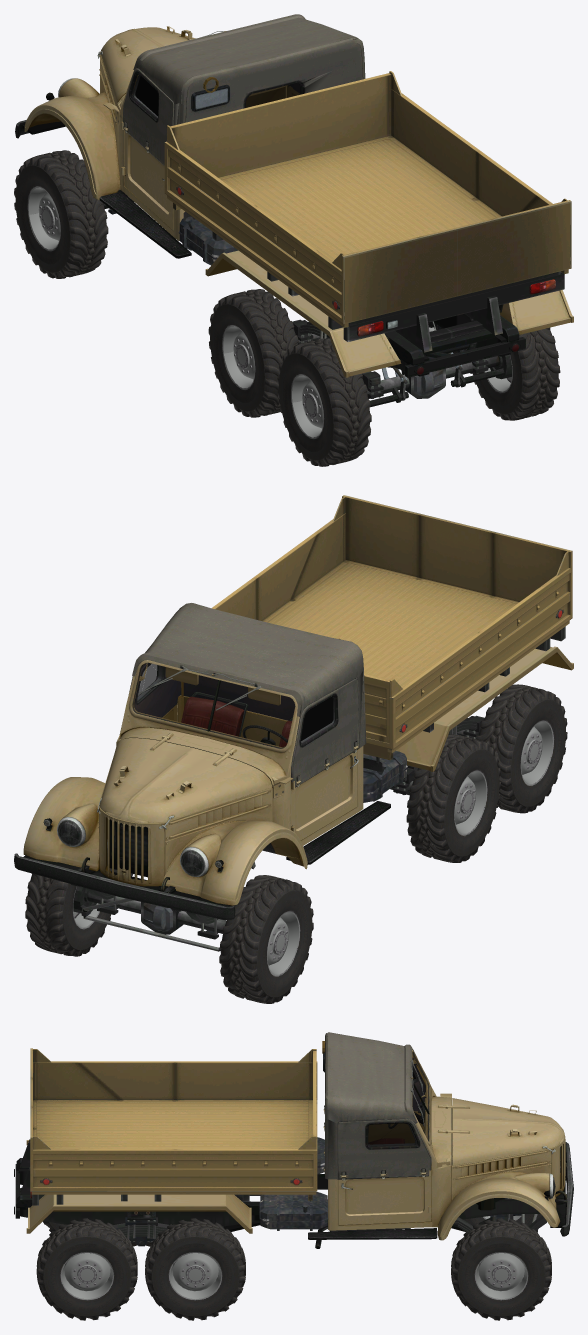
File: barracks.fbx
3 renders of one model, top to bottom at view 1: azimuth 30°, elevation 25°; view 2: azimuth 150°, elevation 25°; view 3: azimuth 270°, elevation 25°, orthographic. The views are drawn at different scales.
Visible parts, largest first — view 1: kuzov, chassis, tend, wheel.001, wheel.005, wheel.004, rama, door_lf_ok, wheel.003, baki, stekla, stopari; view 2: chassis, kuzov, tend, wheel.001, wheel.004, wheel.005, door_lf_ok, wheel, salon, salon2, door_rf_ok, baki (+2 smaller); view 3: kuzov, chassis, door_rf_ok, wheel.003, wheel, wheel.002, tend, baki, door_lf_ok, stekla.001, rama.
Boxes of the visible parts, bbox=[...] form: kuzov: bbox=[164, 71, 571, 327]; chassis: bbox=[15, 26, 573, 407]; tend: bbox=[133, 14, 365, 125]; wheel.001: bbox=[14, 150, 108, 278]; wheel.005: bbox=[277, 338, 371, 466]; wheel.004: bbox=[208, 289, 298, 417]; rama: bbox=[212, 231, 564, 352]; door_lf_ok: bbox=[121, 67, 174, 229]; wheel.003: bbox=[473, 327, 560, 420]; baki: bbox=[178, 216, 238, 265]; stekla: bbox=[246, 80, 304, 107]; stopari: bbox=[357, 279, 555, 336]; chassis: bbox=[14, 646, 573, 951]; kuzov: bbox=[212, 495, 572, 771]; tend: bbox=[132, 603, 366, 747]; wheel.001: bbox=[219, 875, 313, 1003]; wheel.004: bbox=[406, 734, 500, 862]; wheel.005: bbox=[476, 684, 567, 813]; door_lf_ok: bbox=[291, 677, 359, 840]; wheel: bbox=[25, 839, 117, 956]; salon: bbox=[139, 663, 292, 747]; salon2: bbox=[178, 638, 340, 720]; door_rf_ok: bbox=[129, 662, 178, 721]; baki: bbox=[363, 751, 407, 802]; kuzov: bbox=[30, 1048, 317, 1201]; chassis: bbox=[15, 1049, 573, 1248]; door_rf_ok: bbox=[337, 1118, 431, 1225]; wheel.003: bbox=[36, 1218, 137, 1320]; wheel: bbox=[451, 1218, 551, 1320]; wheel.002: bbox=[145, 1218, 245, 1320]; tend: bbox=[323, 1032, 417, 1179]; baki: bbox=[259, 1137, 328, 1230]; door_lf_ok: bbox=[368, 1057, 426, 1142]; stekla.001: bbox=[367, 1123, 416, 1147]; rama: bbox=[20, 1139, 261, 1205].
Size of the model in its own units: 283 by 309 by 726.
